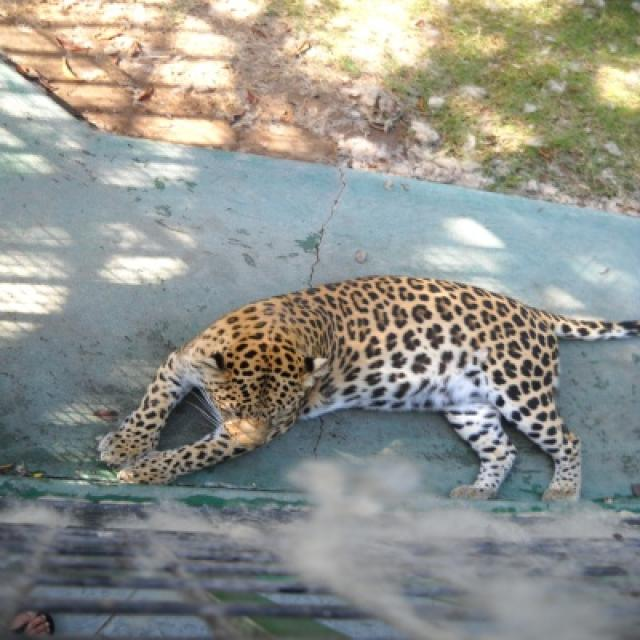Jaguar: (96, 277, 632, 509)
